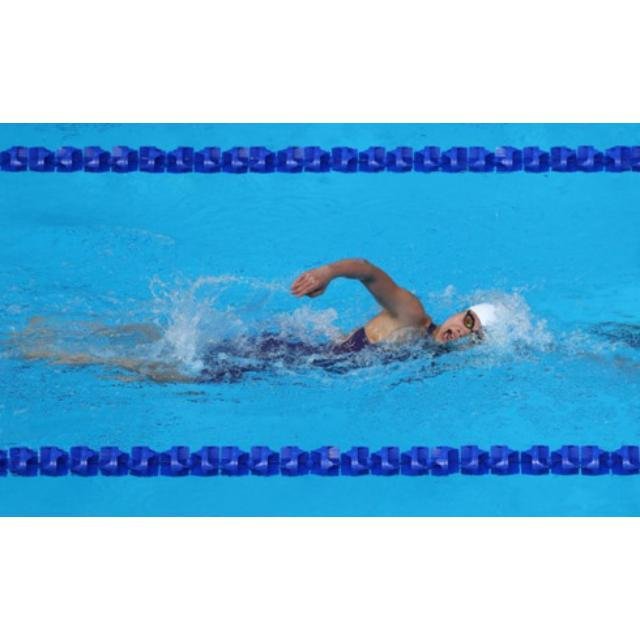human: (289, 255, 501, 375)
